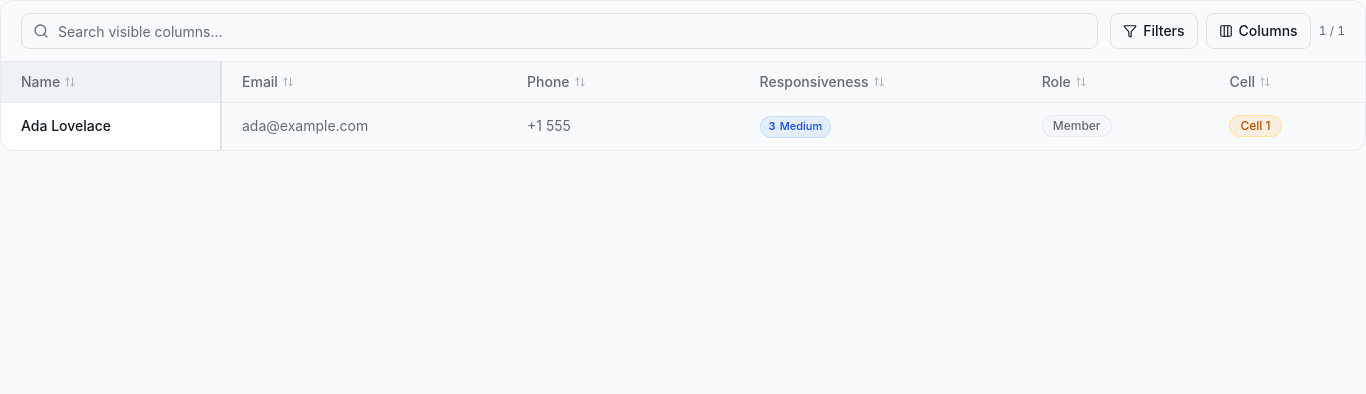
Test: membership column toggles › hides State by default and shows it after Columns toggle
expect the text "GA" is not shown: met
expect the link "ada@example.com" is shown: met, box [242,117,368,134]
Click the button "Columns": (1258, 31) [1206,13,1311,49]
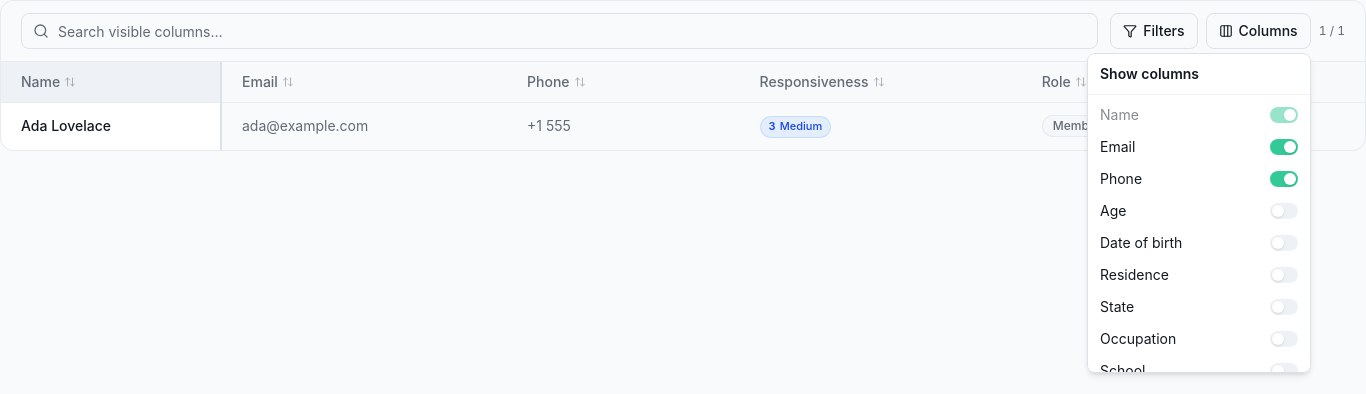
Click the menu item "State": (1117, 306) [1100,298,1298,315]
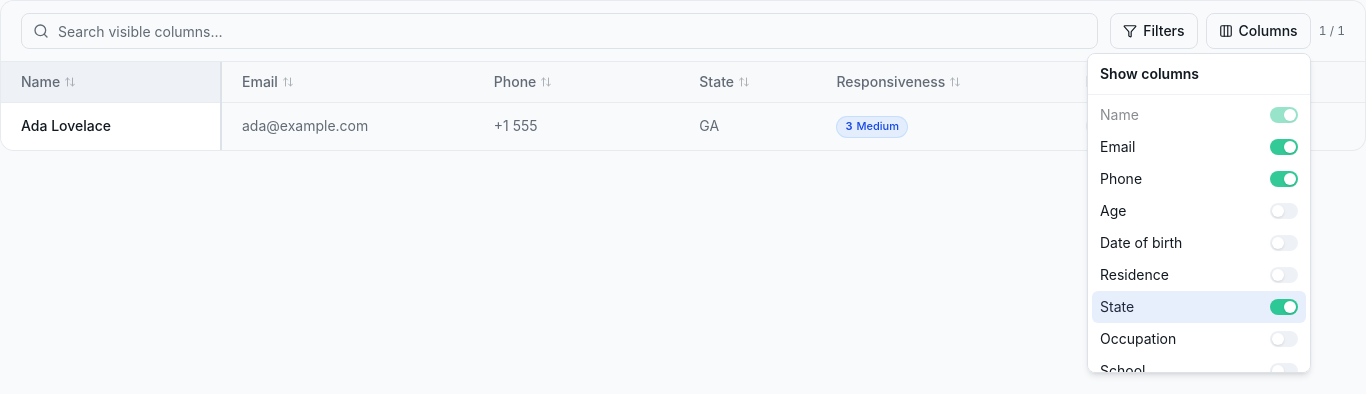
expect the text "GA" is shown: met, box [699,117,719,134]
